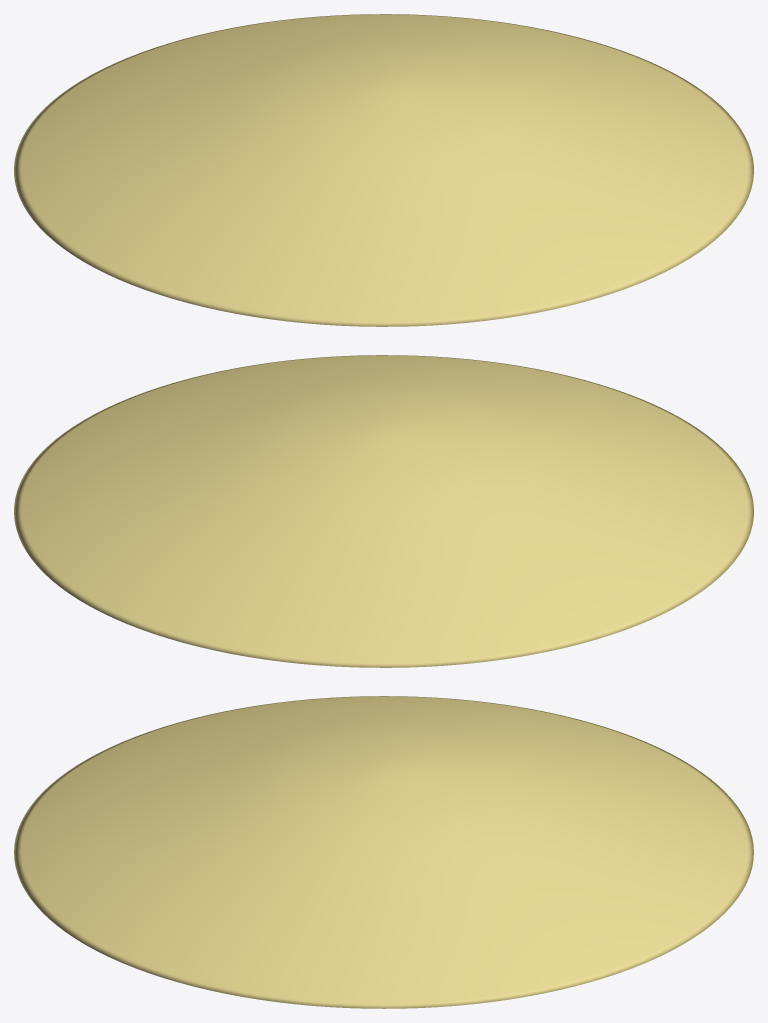
Rendered from slight_hill_sand.fbx.
3 renders of one model, top to bottom at view 1: azimuth 30°, elevation 25°; view 2: azimuth 150°, elevation 25°; view 3: azimuth 270°, elevation 25°, orthographic.
Parts seen in each view (by area): view 1: Circle; view 2: Circle; view 3: Circle.
Boxes of the visible parts, x1,y1,x2,y2 form: Circle: (14,14,753,326); Circle: (14,355,753,667); Circle: (14,696,753,1008).
Size of the model in its own units: 925 by 120 by 925.
